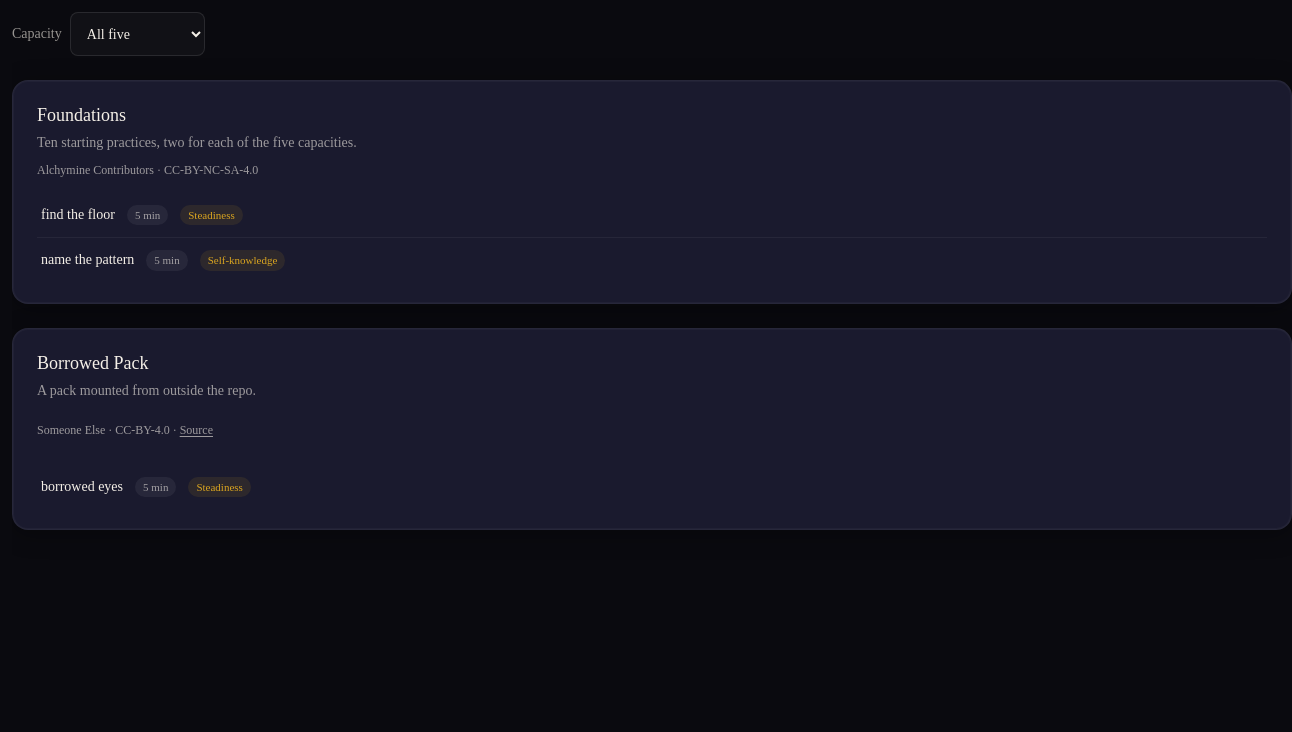
PracticeLibrary › filters to one purpose
Select "Self-knowledge" in the dropdown labelled "Capacity" at {"x": 137, "y": 34}, box [70, 12, 205, 56]
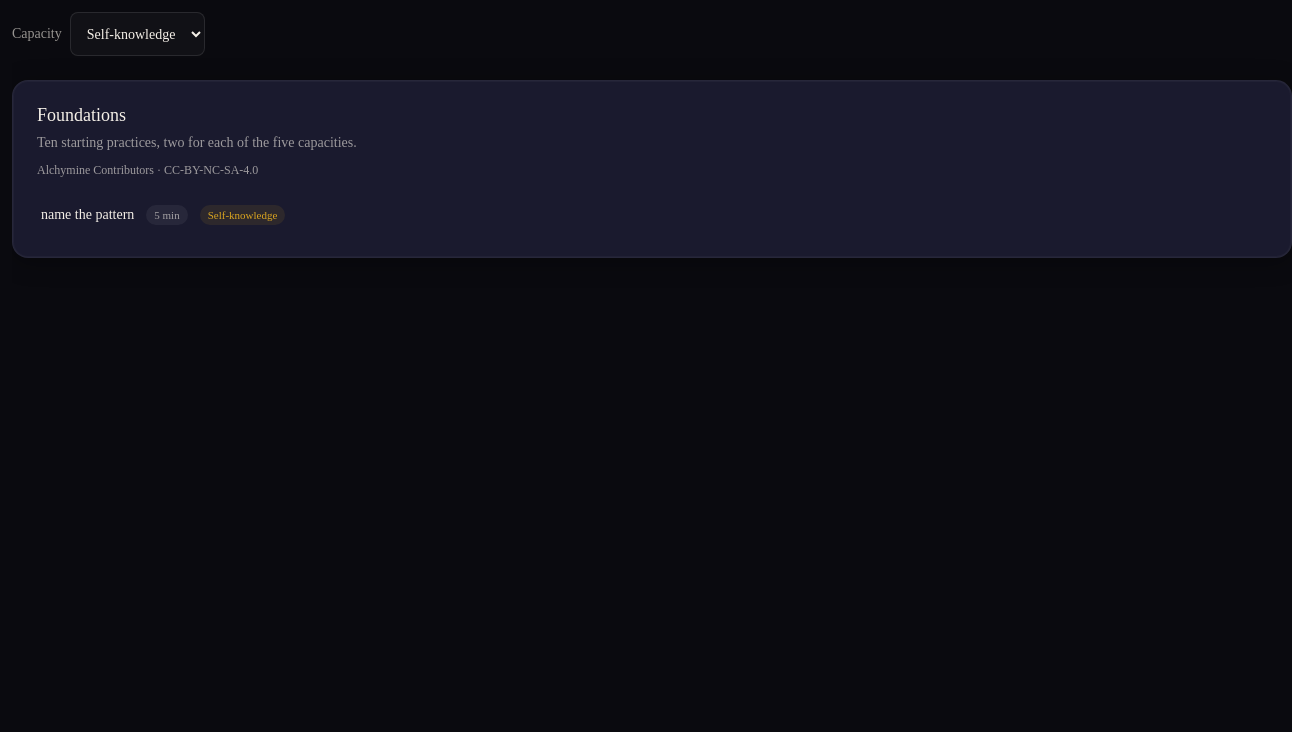
Expected: the text "name the pattern" is shown, [41, 204, 134, 224]
Now the button "find the floor" is gone
